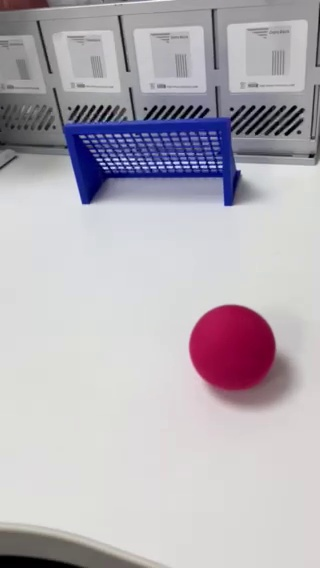goal: (54, 107, 241, 207)
redball: (189, 304, 277, 392)
